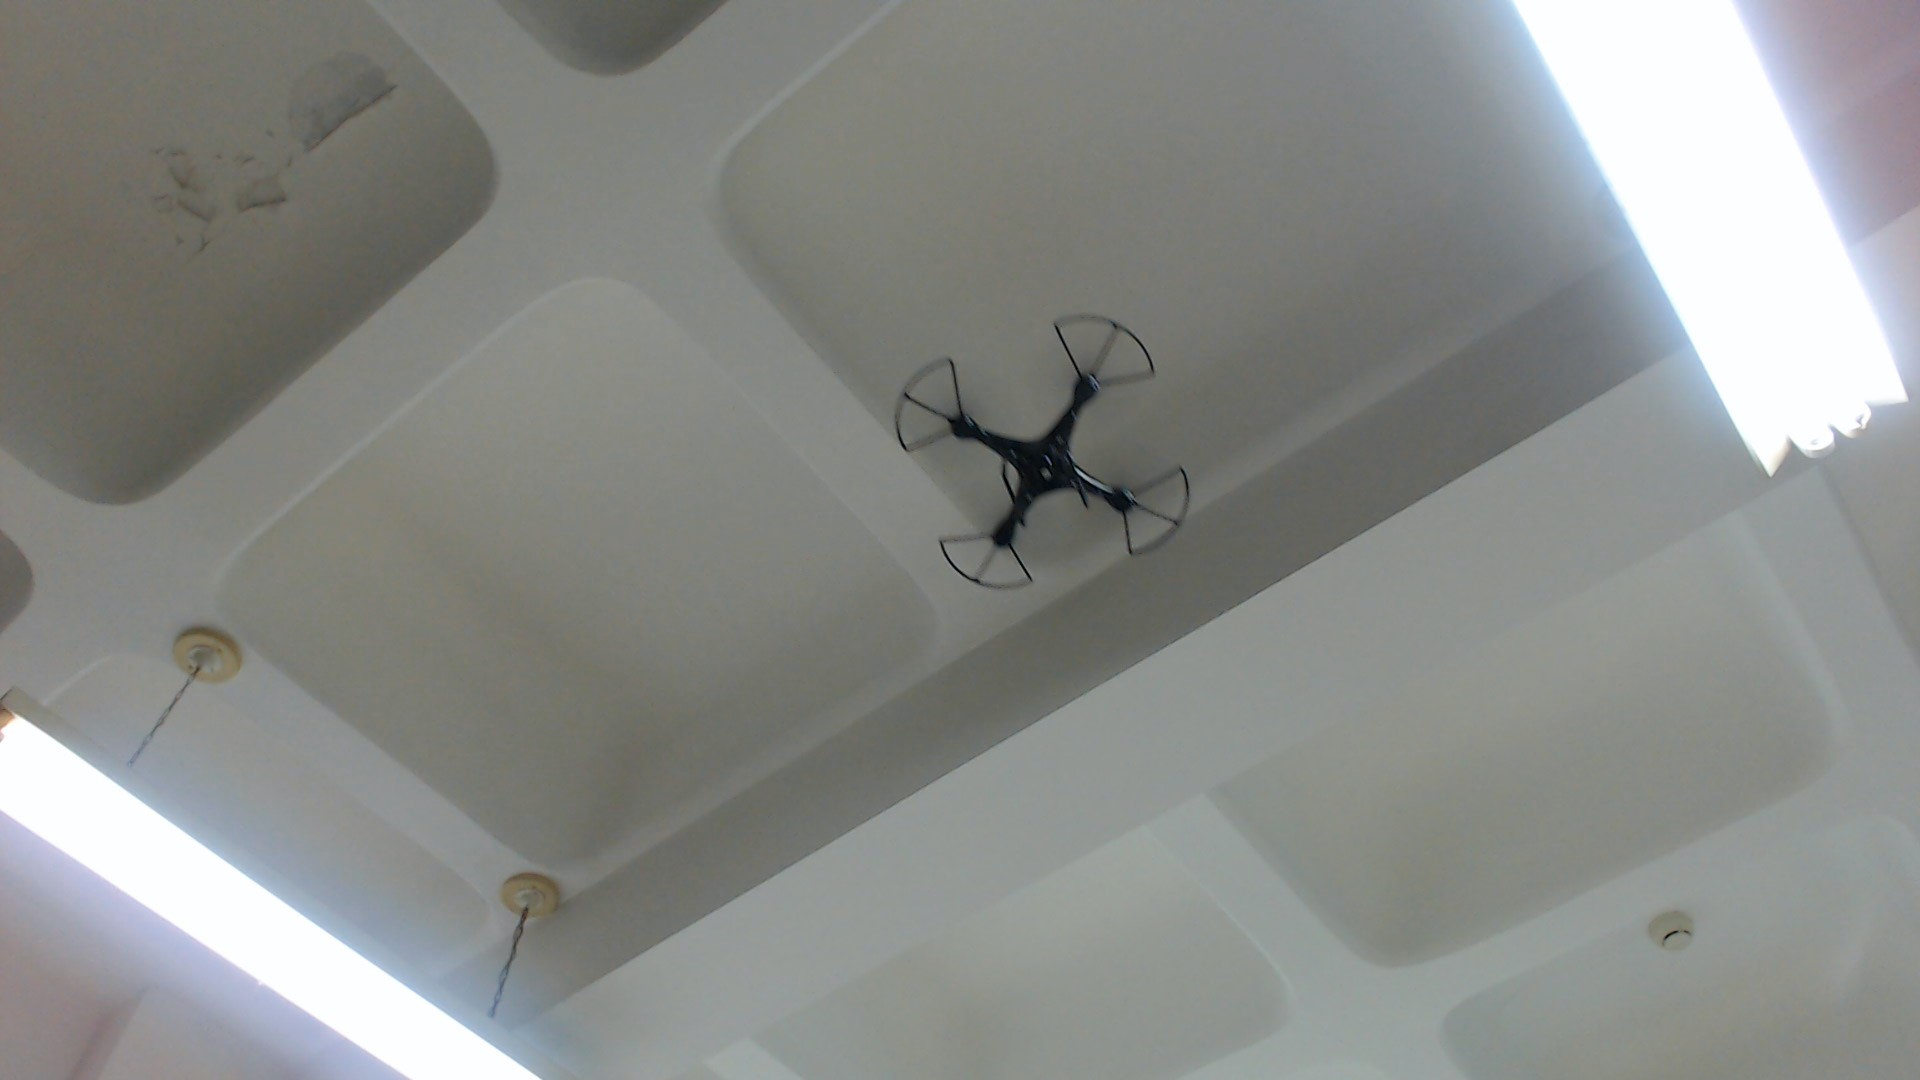test_drone: (894, 313, 1195, 595)
